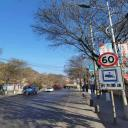speed_limit_60: (98, 52, 118, 66)
